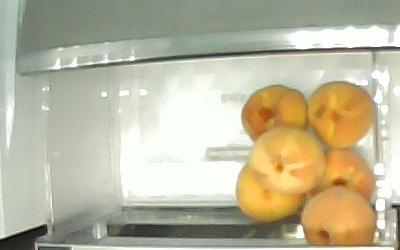peach: (251, 130, 325, 192), (301, 186, 376, 247), (309, 81, 374, 145), (240, 85, 309, 144), (237, 160, 302, 222), (309, 149, 373, 204)
